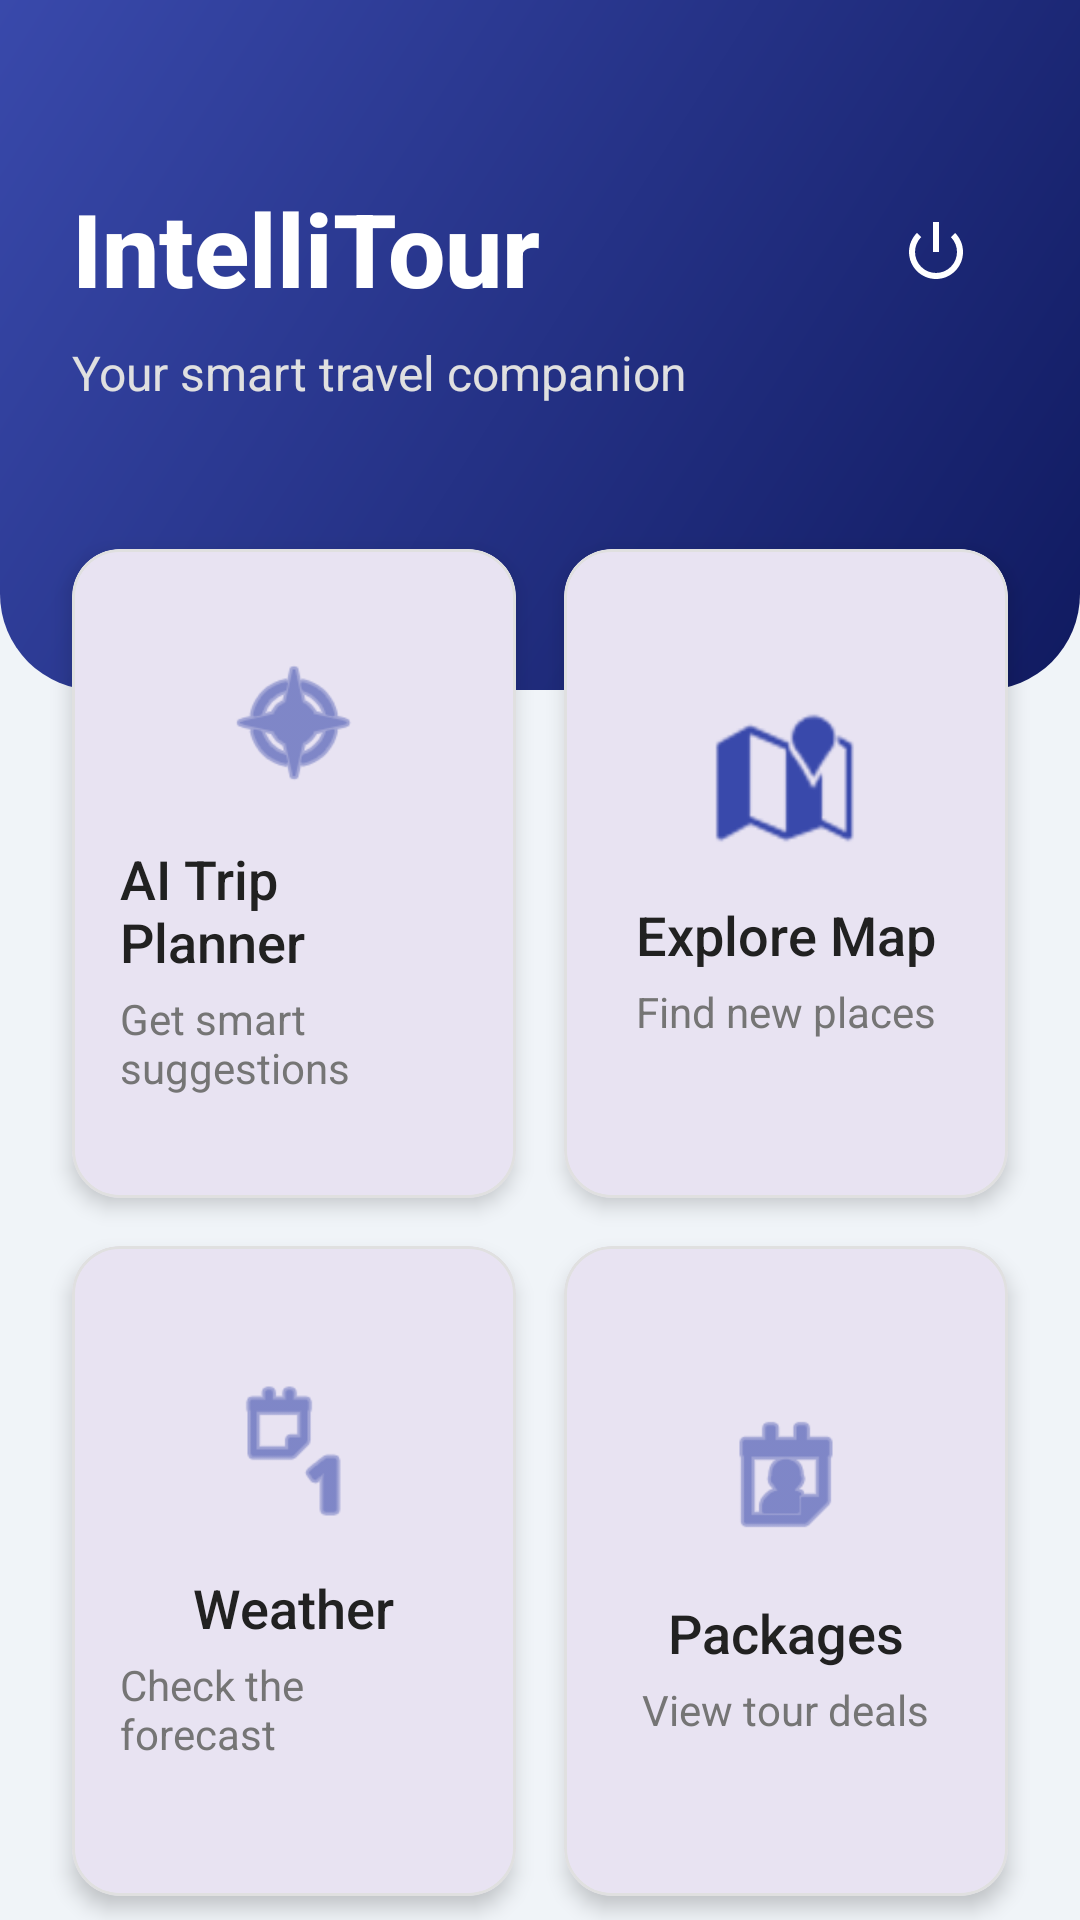

Where to tap for icons on this 1080px×1920px app screen, as point (x, y):
calendar: point (786, 1474)
compass: point (293, 722)
day: point (293, 1451)
lock power off: point (936, 250)
